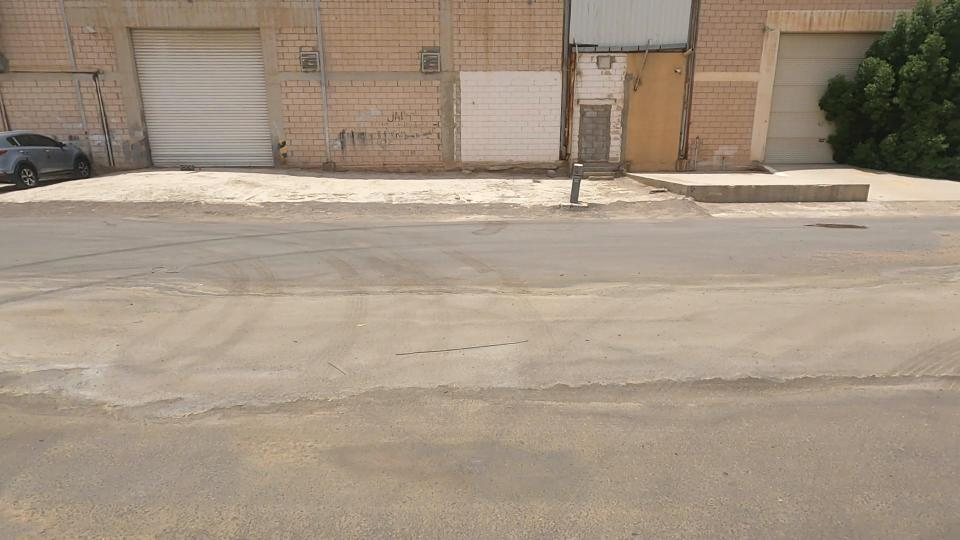POTHOLES: (447, 287, 950, 497), (259, 321, 602, 497), (0, 335, 363, 489)
